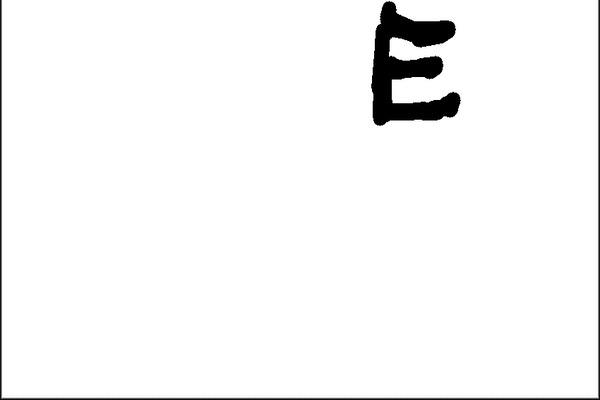E: (364, 0, 469, 125)
